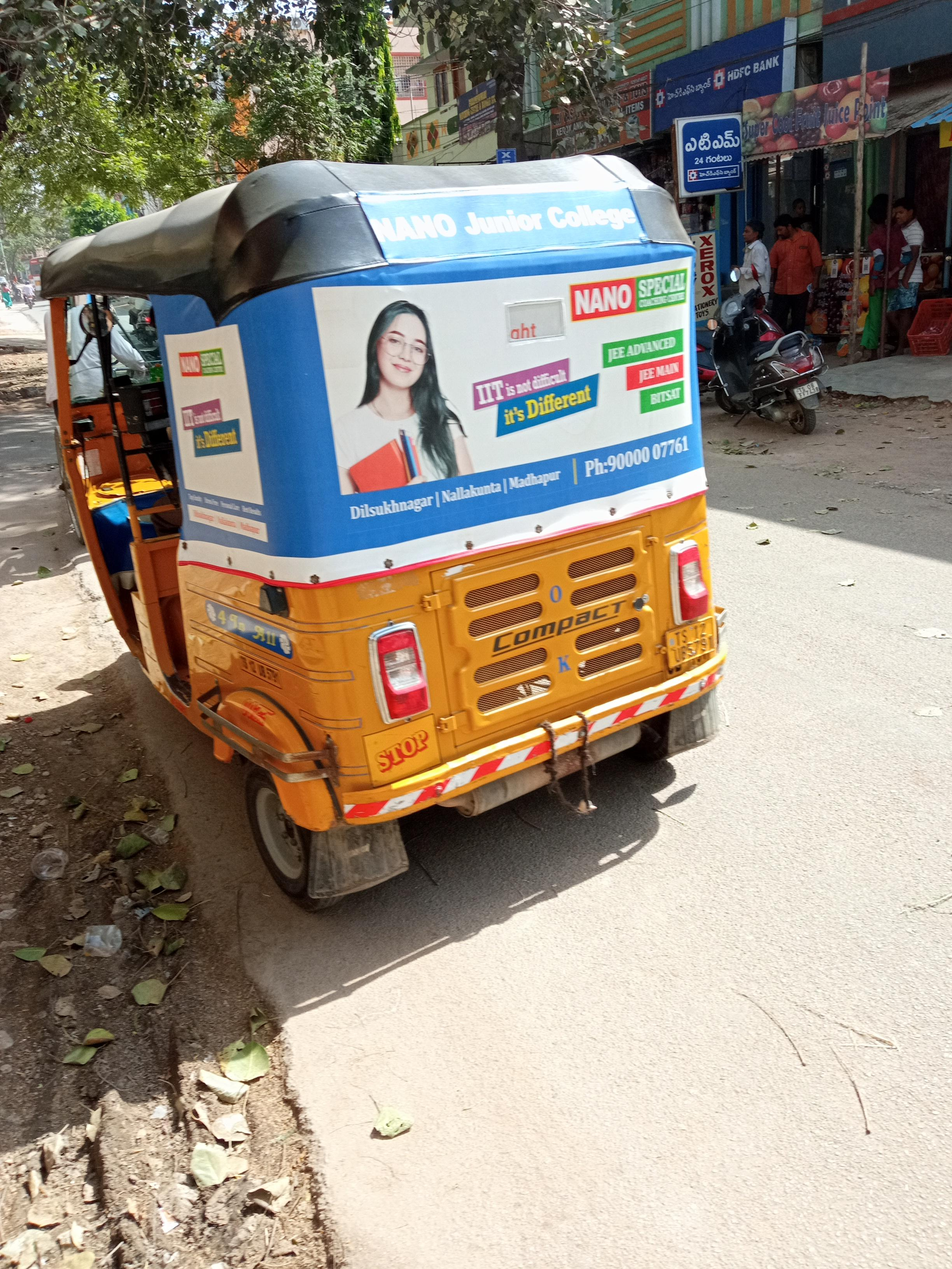non-ambulance: (0, 6, 786, 875), (406, 531, 436, 562)
